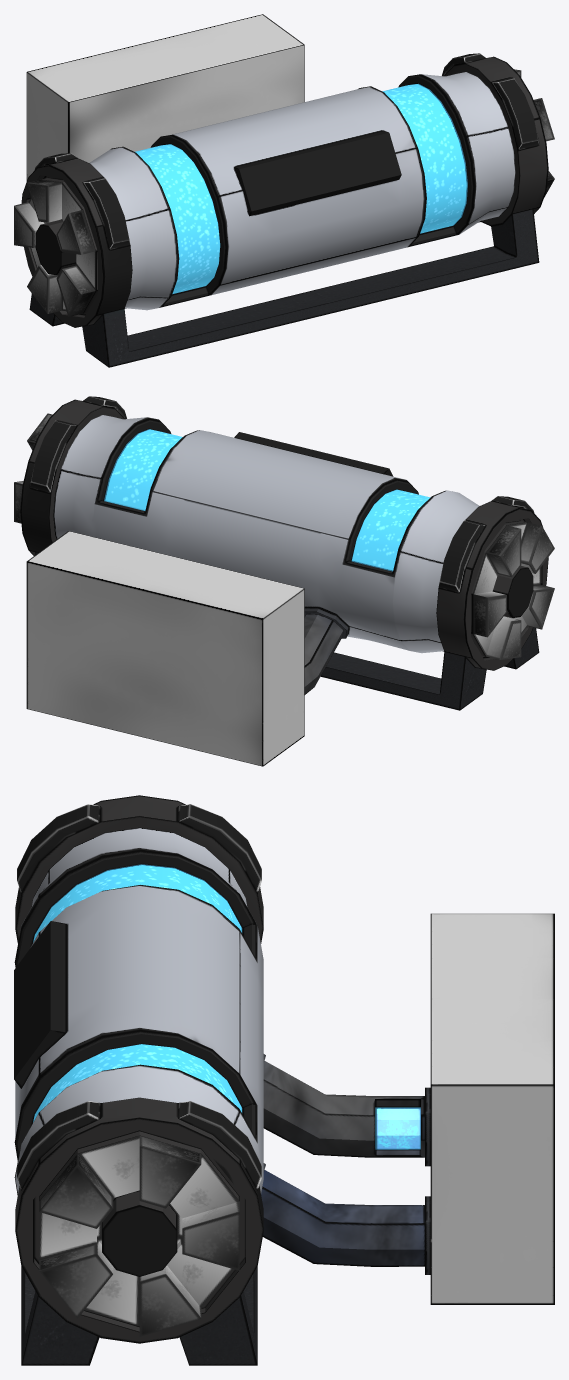
File: PowerGenerator.fbx
The picture shows the model from 3 angles, top to bottom: view 1: azimuth 30°, elevation 25°; view 2: azimuth 150°, elevation 25°; view 3: azimuth 270°, elevation 25°; orthographic projection. The views are drawn at different scales.
Visible parts, largest first — view 1: PowerCore; view 2: PowerCore; view 3: PowerCore.
Part boxes in pixels (x1,y1,x2,y2): PowerCore: (14, 14, 554, 367); PowerCore: (14, 396, 554, 766); PowerCore: (14, 795, 554, 1365).
Size of the model in its own units: 984 by 350 by 654.
1 material, 1 textured.
